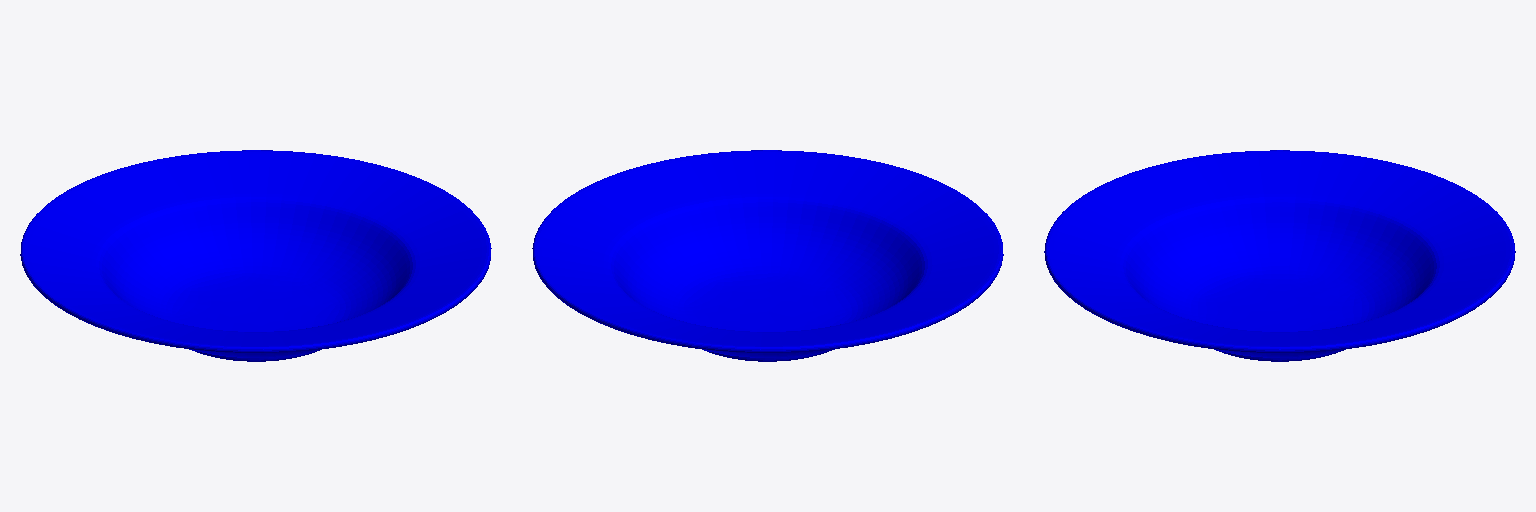
robot.urdf — spinning_plate.urdf:
<?xml version="1.0" ?>
<robot name="spinning_plate.urdf">
  <link name="spinning_plate">
    <inertial>
      <origin rpy="0 0 0" xyz="0 0 0"/>
       <mass value="0.6"/>
       <inertia ixx="1" ixy="0" ixz="0" iyy="1" iyz="0" izz="1"/>
    </inertial>
    <visual>
      <origin rpy="0 0 0" xyz="0 0 0"/>
      <geometry>
        <mesh filename="spinning_plate.obj"/>
      </geometry>
      <material name="blue">
       <color rgba="0.0 0.0 1.0 1.0"/>
     </material>
    </visual>
    <collision>
      <origin rpy="0 0 0" xyz="0 0 0"/>
      <geometry>
				<mesh filename="spinning_plate.obj"/>
      </geometry>
    </collision>
  </link>
</robot>

--- Render facts (derived) ---
Views: 3 orthographic renders of the robot side by side, from view 1: azimuth 30°, elevation 25°; view 2: azimuth 150°, elevation 25°; view 3: azimuth 270°, elevation 25°.
Robot: spinning_plate.urdf — 1 links, 0 joints (none); root link spinning_plate; default pose: every joint at zero.
Links seen in each view (by area): view 1: spinning_plate; view 2: spinning_plate; view 3: spinning_plate.
Boxes of the visible links, x1,y1,x2,y2 form: spinning_plate: [20, 150, 491, 361]; spinning_plate: [532, 150, 1003, 361]; spinning_plate: [1044, 150, 1515, 361].
Size in the robot's own frame: 0.151 by 0.151 by 0.0267 metres.
Meshes: 1 distinct files referenced, 1 mesh visuals loaded (1 OBJ).